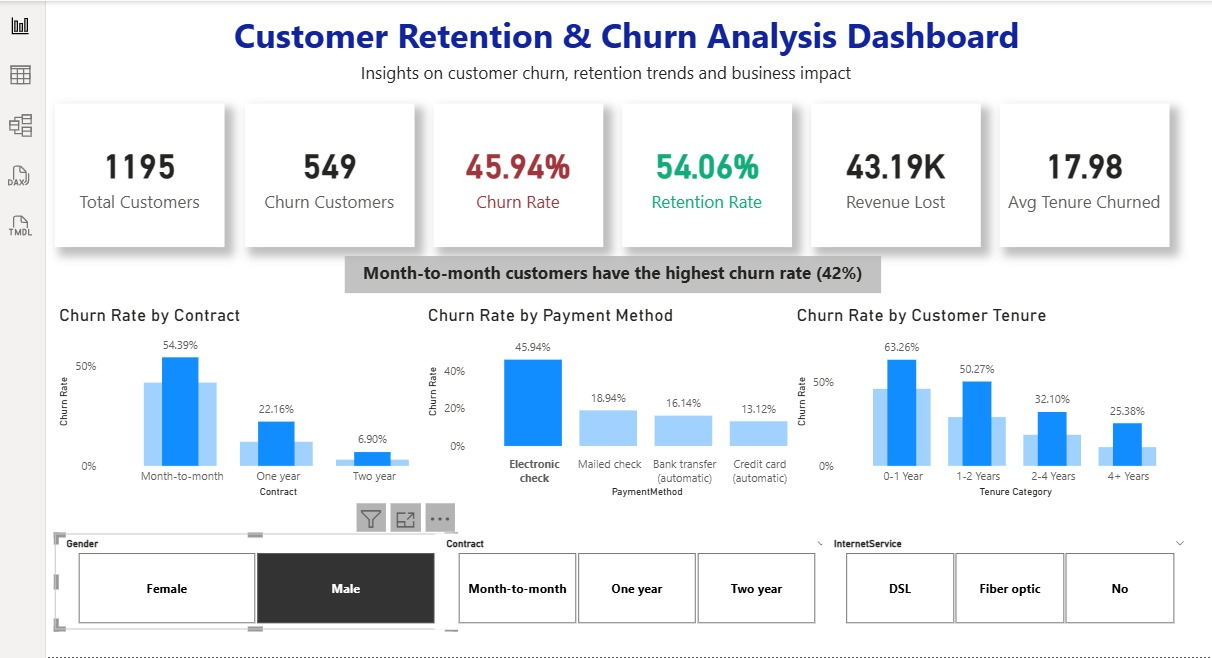

The dashboard page shown, as its layout file describes it:
{"tool":"powerbi","page":{"name":"Page 1","canvas":[1280,720],"ordinal":0},"visuals":[{"type":"textbox","box":[9.6,0,1128,279.9],"z":0},{"type":"textbox","box":[50.8,60.4,1128,41.2],"z":1000},{"type":"card","fields":{"Values":["ChurnData.Total Customers"]},"box":[9.6,112.5,186.6,157.8],"z":2000},{"type":"card","fields":{"Values":["ChurnData.Churn Customers"]},"box":[217.6,112.5,186,157.8],"z":3000},{"type":"card","fields":{"Values":["ChurnData.Churn Rate"]},"box":[424.9,112.5,186,157.8],"z":4000},{"type":"card","fields":{"Values":["ChurnData.Retention Rate"]},"box":[632.3,112.5,186,157.8],"z":5000},{"type":"card","fields":{"Values":["ChurnData.Revenue Lost"]},"box":[839.6,112.5,186,157.8],"z":6000},{"type":"card","fields":{"Values":["ChurnData.Avg Tenure Churned"]},"box":[1047,112.5,186,157.8],"z":7000},{"type":"clusteredColumnChart","title":"Churn Rate by Contract","fields":{"Category":["ChurnData.Contract"],"Y":["ChurnData.Churn Rate"]},"box":[9.6,333.4,440.5,216.8],"z":8000},{"type":"clusteredColumnChart","title":"Churn Rate by Payment Method","fields":{"Category":["ChurnData.PaymentMethod"],"Y":["ChurnData.Churn Rate"]},"box":[414.4,333.4,440.5,216],"z":9000},{"type":"clusteredColumnChart","title":"Churn Rate by Customer Tenure","fields":{"Category":["ChurnData.Tenure Category"],"Y":["ChurnData.Churn Rate"]},"box":[819.2,333.4,440.5,216.8],"z":10000},{"type":"slicer","fields":{"Values":["ChurnData.gender"]},"box":[9.6,584.6,440.5,105.7],"z":11000},{"type":"slicer","fields":{"Values":["ChurnData.Contract"]},"box":[426.8,584.6,441.9,105.7],"z":12000},{"type":"slicer","fields":{"Values":["ChurnData.InternetService"]},"box":[852.1,584.6,410.3,105.7],"z":13000},{"type":"textbox","box":[328,279.9,588.7,41.2],"z":14000}]}

Visuals, with their boxes on the page's 1280x720 design canvas (x1, y1, x2, y2). These are canvas units, not pixel positions in the 1212x658 screenshot, which may show the page scaled, cropped or inside an application window:
textbox: bbox=[10, 0, 1138, 280]
textbox: bbox=[51, 60, 1179, 102]
card - ChurnData.Total Customers: bbox=[10, 112, 196, 270]
card - ChurnData.Churn Customers: bbox=[218, 112, 404, 270]
card - ChurnData.Churn Rate: bbox=[425, 112, 611, 270]
card - ChurnData.Retention Rate: bbox=[632, 112, 818, 270]
card - ChurnData.Revenue Lost: bbox=[840, 112, 1026, 270]
card - ChurnData.Avg Tenure Churned: bbox=[1047, 112, 1233, 270]
"Churn Rate by Contract" clusteredColumnChart: bbox=[10, 333, 450, 550]
"Churn Rate by Payment Method" clusteredColumnChart: bbox=[414, 333, 855, 549]
"Churn Rate by Customer Tenure" clusteredColumnChart: bbox=[819, 333, 1260, 550]
slicer - ChurnData.gender: bbox=[10, 585, 450, 690]
slicer - ChurnData.Contract: bbox=[427, 585, 869, 690]
slicer - ChurnData.InternetService: bbox=[852, 585, 1262, 690]
textbox: bbox=[328, 280, 917, 321]
